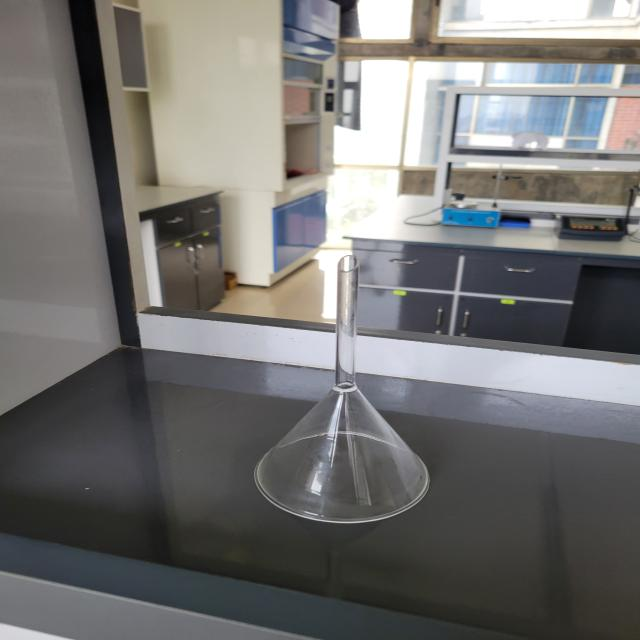Funnel: (236, 232, 457, 554)
